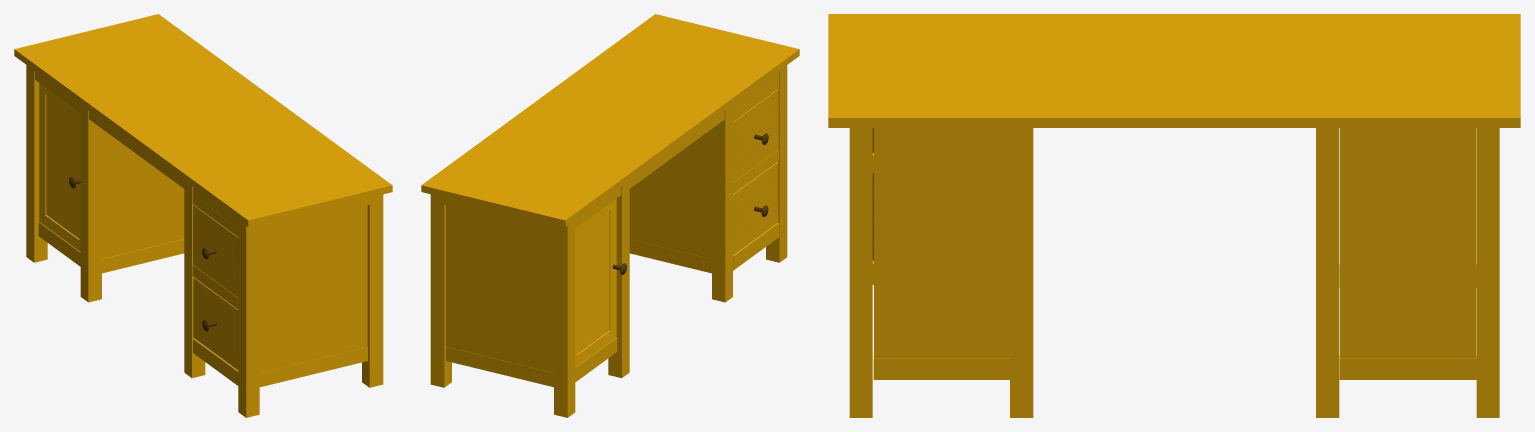
The picture shows the model from 3 angles, left to right: view 1: azimuth 30°, elevation 25°; view 2: azimuth 150°, elevation 25°; view 3: azimuth 270°, elevation 25°; orthographic projection. The views are drawn at different scales.
Visible parts, largest first — view 1: Table _Table Morilka_0, Table Left Door, Table Left Door.002, Table Left Door.003; view 2: Table _Table Morilka_0, Table Left Door, Table Left Door.002, Table Left Door.003; view 3: Table _Table Morilka_0.
Part boxes in pixels (x1,y1,x2,y2): Table _Table Morilka_0: (14, 14, 392, 417); Table Left Door: (39, 83, 80, 251); Table Left Door.002: (193, 277, 238, 369); Table Left Door.003: (193, 204, 238, 297); Table _Table Morilka_0: (421, 14, 799, 417); Table Left Door: (575, 199, 616, 367); Table Left Door.002: (733, 162, 778, 254); Table Left Door.003: (733, 89, 778, 182); Table _Table Morilka_0: (828, 14, 1520, 417).
Size of the model in its own units: 57.76 by 74.5 by 155.
Materials: 4 (3 with a texture image).
